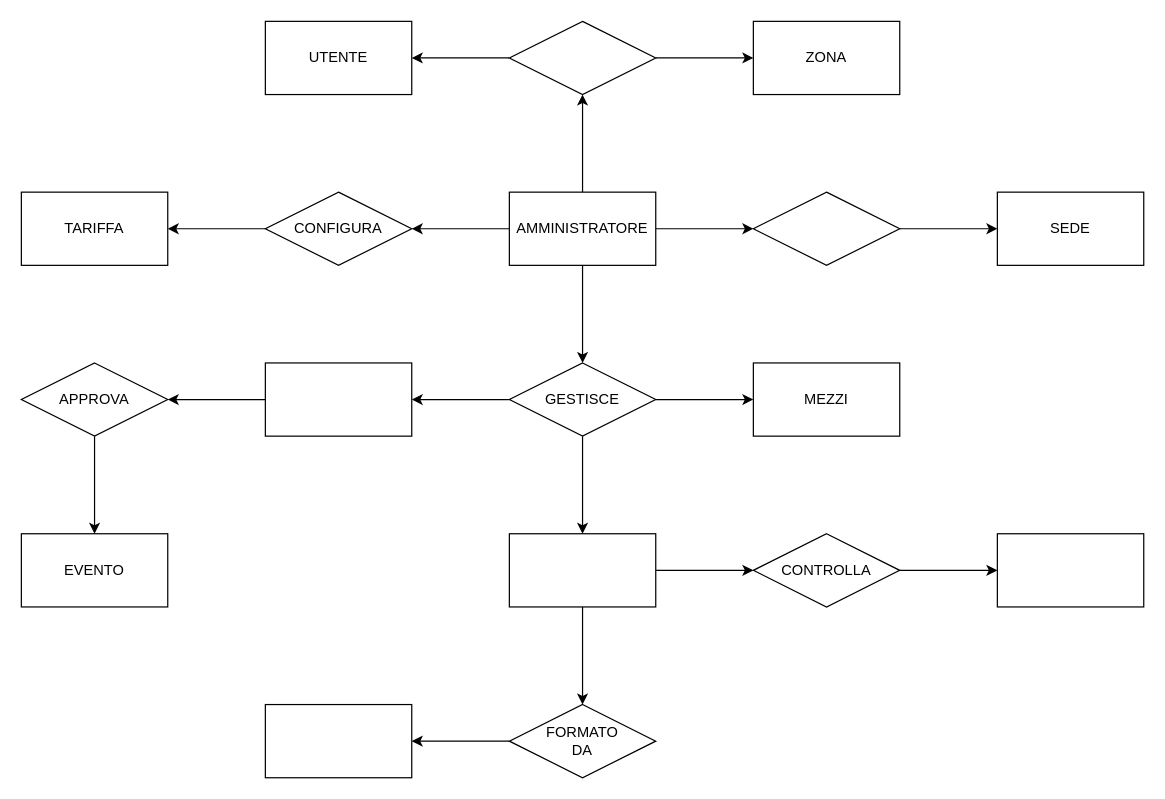
Image size: 1165x799. Some labels were removed from this diagram. Each missing label, with the centre of its shape:
LAVORO IN: pixel 826 228
OPEARATORE: pixel 338 740
PARTNER: pixel 338 399
PRENOTAZIONE: pixel 1070 570
SUPERVISIONE: pixel 582 57
TEAM: pixel 582 570
